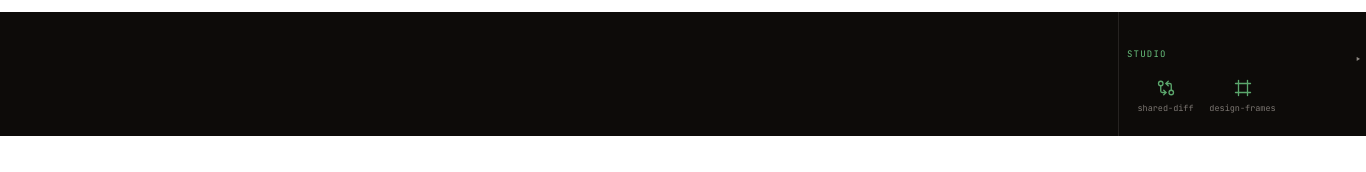
a Studio tile in the chat surface › folds the Studio rail to a strip when a widget is picked
Step 1. Click the button with test id "studio-kind-shared-diff" → click(1166, 95), box [1129, 70, 1202, 120]
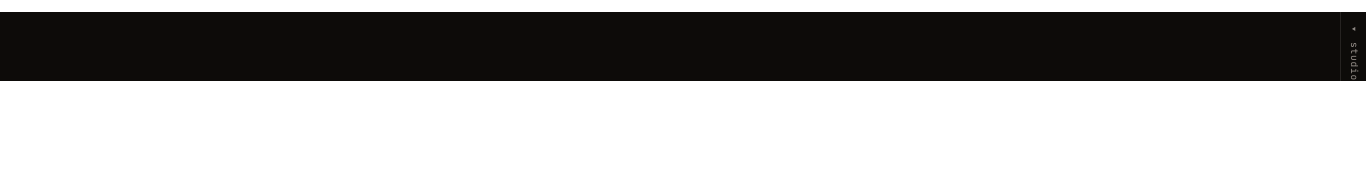
Expected: the element with test id "agents-catalogue" has attribute data-folded="1", [1340, 12, 1365, 81]
